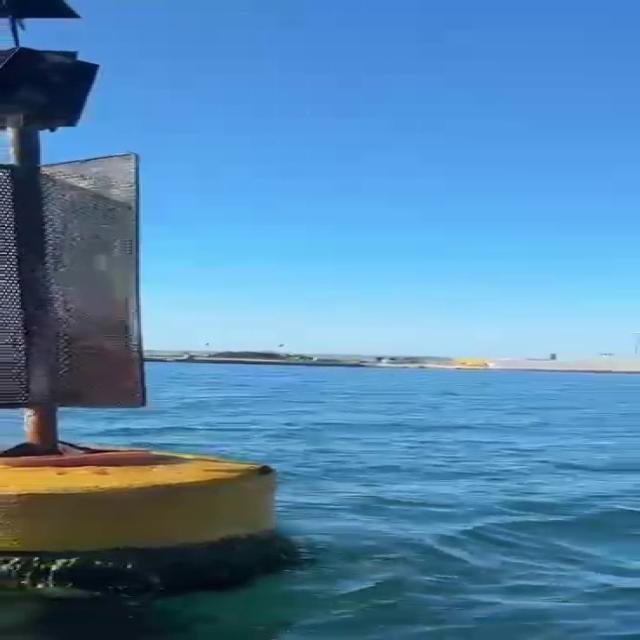marque: (1, 1, 305, 590)
